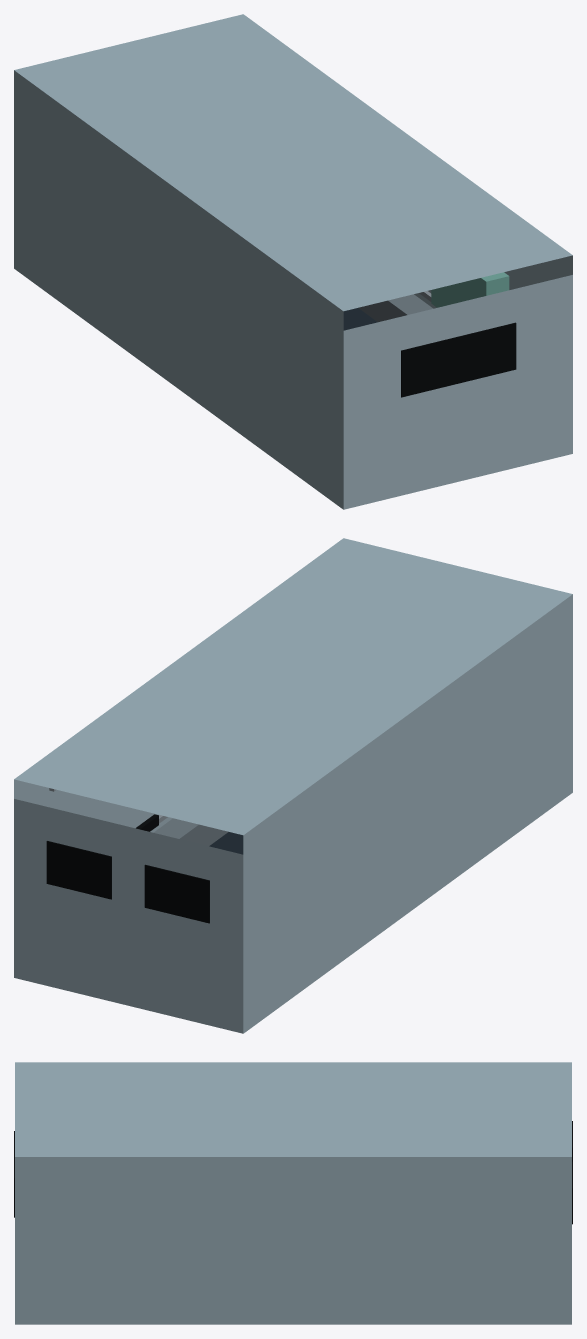
Rendered from ambulance_clean_shell.obj.
The picture shows the model from 3 angles, top to bottom: view 1: azimuth 30°, elevation 25°; view 2: azimuth 150°, elevation 25°; view 3: azimuth 270°, elevation 25°; orthographic projection. The views are drawn at different scales.
Visible parts, largest first — view 1: ceiling_flat_center, left_wall_flat, front_partition_flat, partition_window_back, right_wall_flat, right_head_service_panel_left; view 2: ceiling_flat_center, left_wall_flat, rear_double_doors_flat, rear_right_window_front, rear_left_window_front, right_wall_flat; view 3: right_wall_flat, ceiling_flat_center.
Part boxes in pixels (bbox=[...]): ceiling_flat_center: bbox=[14, 14, 572, 311]; left_wall_flat: bbox=[14, 70, 343, 509]; front_partition_flat: bbox=[343, 275, 572, 509]; partition_window_back: bbox=[401, 323, 516, 397]; right_wall_flat: bbox=[414, 255, 572, 308]; right_head_service_panel_left: bbox=[431, 278, 486, 307]; ceiling_flat_center: bbox=[14, 538, 572, 835]; left_wall_flat: bbox=[243, 594, 572, 1033]; rear_double_doors_flat: bbox=[14, 799, 243, 1033]; rear_right_window_front: bbox=[46, 841, 111, 899]; rear_left_window_front: bbox=[144, 865, 209, 923]; right_wall_flat: bbox=[14, 779, 172, 832]; right_wall_flat: bbox=[15, 1157, 571, 1324]; ceiling_flat_center: bbox=[15, 1062, 571, 1156].
Size of the model in its own units: 2.48 by 2.05 by 6.19.
